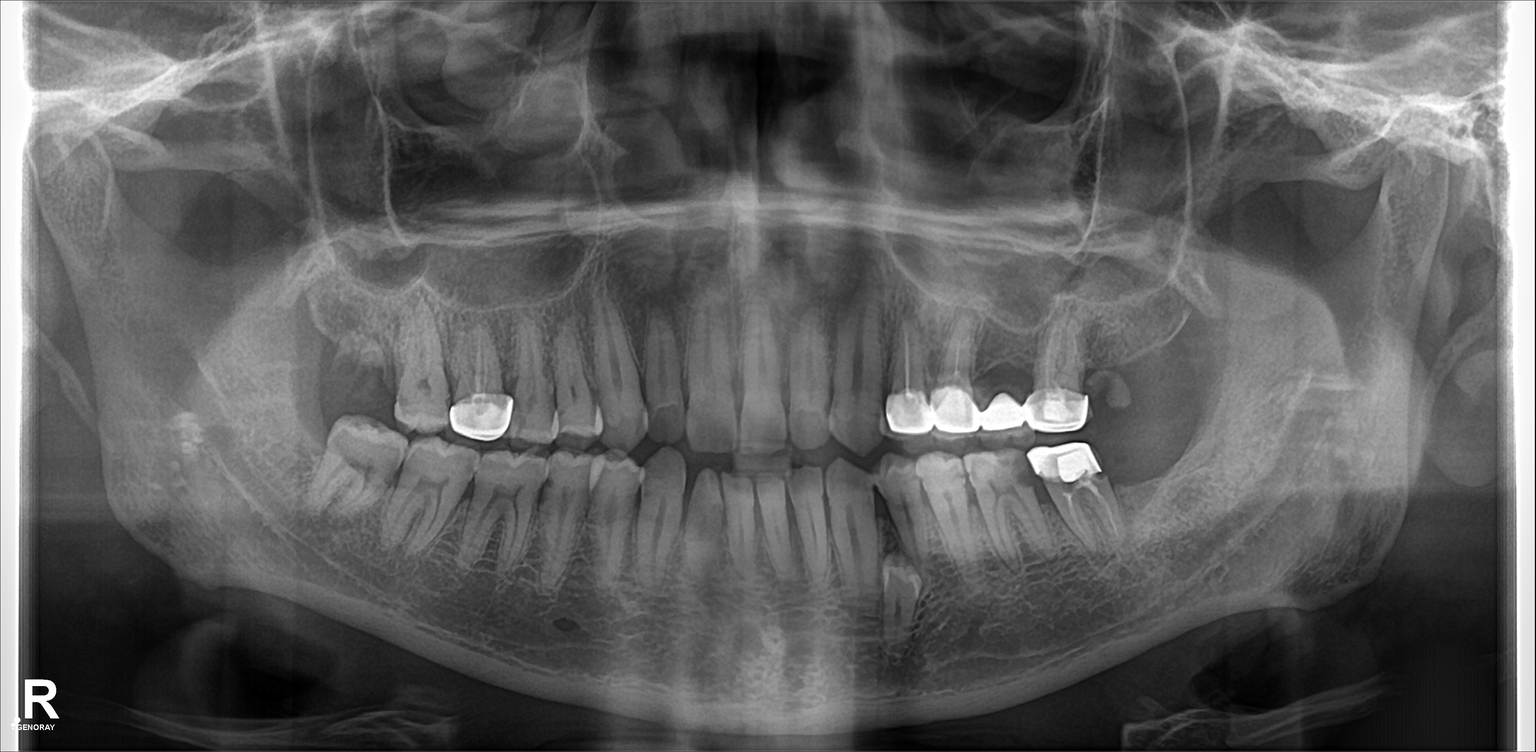Endodontically Treated Tooth: (449, 324, 512, 439), (1057, 441, 1111, 559), (1034, 305, 1080, 435), (980, 307, 1029, 429), (886, 320, 936, 429), (935, 313, 977, 439)
Missing Tooth: (1138, 313, 1208, 420), (1108, 430, 1171, 538)
Retained Root: (1075, 333, 1141, 423), (343, 328, 404, 417)
